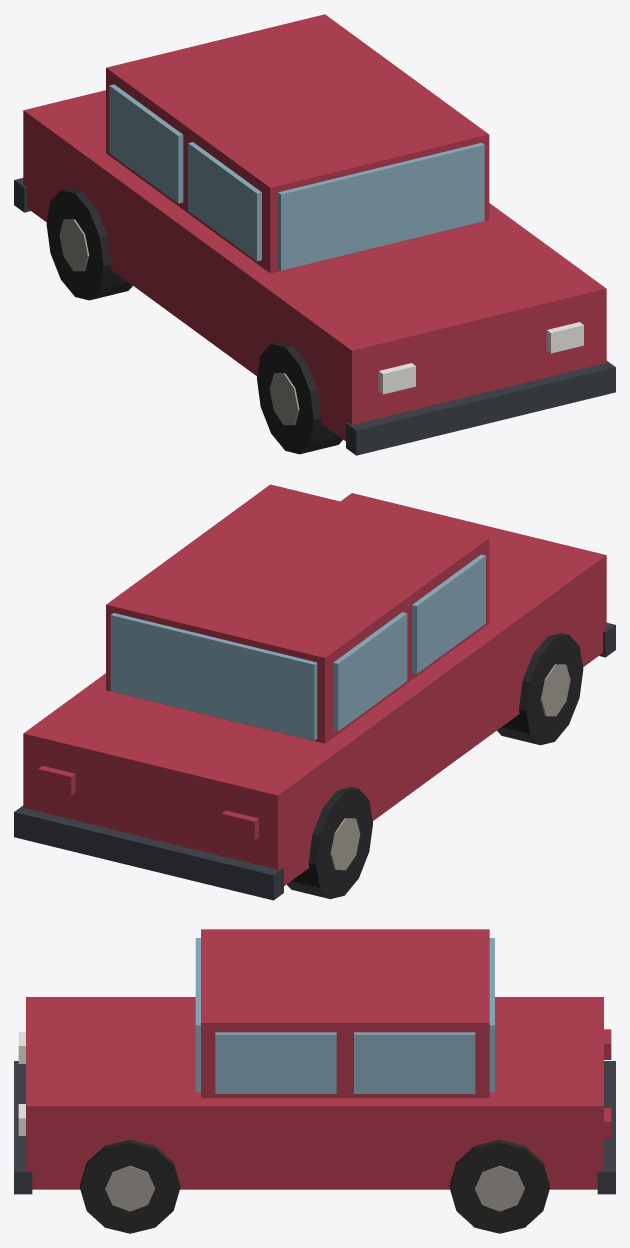
The model's file is car_small.glb.
3 views of the same model, one above another, from view 1: azimuth 30°, elevation 25°; view 2: azimuth 150°, elevation 25°; view 3: azimuth 270°, elevation 25° (orthographic). The views are drawn at different scales.
Visible parts, largest first — view 1: car_small; view 2: car_small; view 3: car_small.
Boxes of the visible parts, x1,y1,x2,y2 form: car_small: (14, 14, 615, 455); car_small: (14, 484, 615, 900); car_small: (14, 929, 615, 1233).
Bounding box in the file's own units: 1.82 × 1.45 × 3.96.
